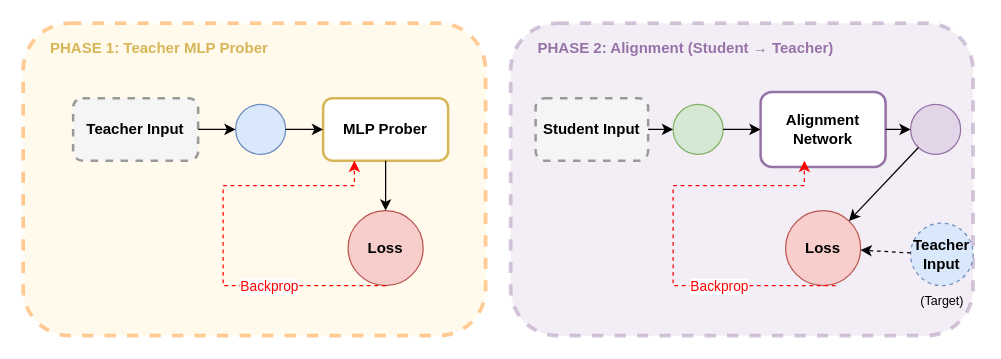
Some shapes in this 1001 by 359 pixel diagram are drawn without their labels. Here are the shapes that lost their labels. From the top down, the box of each, then its label:
(234, 103, 286, 154): Z_T
(672, 103, 723, 154): Z_S
(909, 103, 961, 154): Z'
